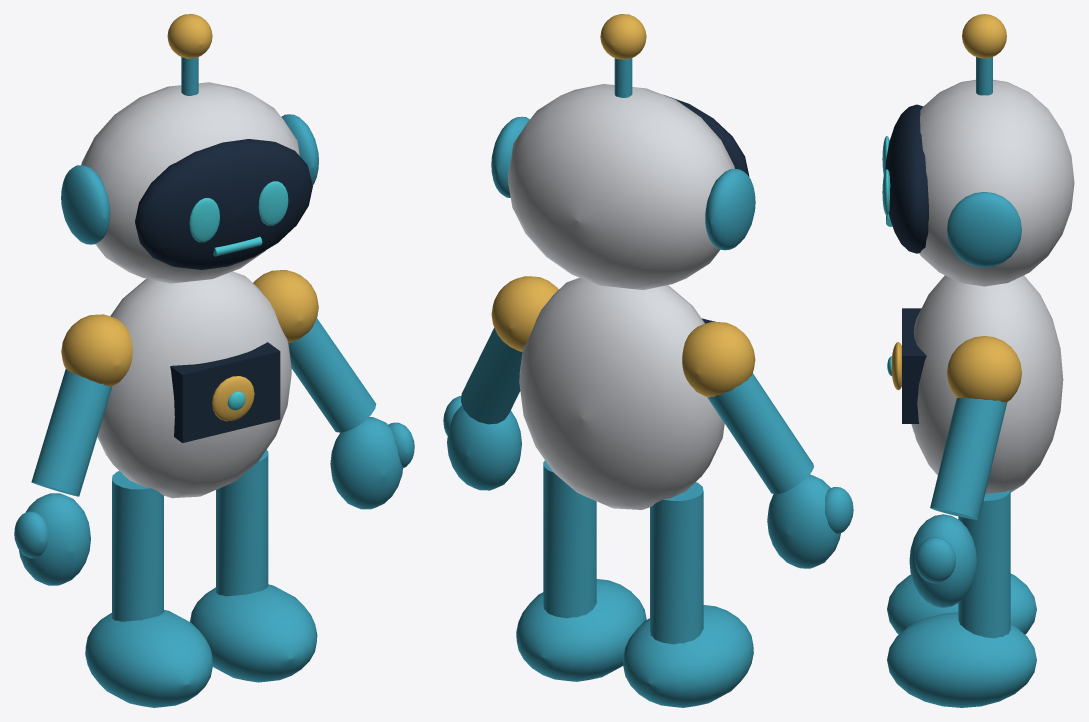
File: robot.glb
The picture shows the model from 3 angles, left to right: view 1: azimuth 30°, elevation 25°; view 2: azimuth 150°, elevation 25°; view 3: azimuth 270°, elevation 25°; orthographic projection. The views are drawn at different scales.
Parts seen in each view (by area): view 1: Body, Head, HandR, HandL; view 2: Body, Head, HandL, HandR; view 3: Body, Head, HandR.
Part boxes in pixels (x1,y1,x2,y2): Body: (31,270,376,707); Head: (61,14,318,283); HandR: (330,417,414,509); HandL: (14,493,90,585); Body: (461,276,813,707); Head: (491,14,755,289); HandL: (767,474,853,568); HandR: (443,396,521,490); Body: (887,275,1063,707); Head: (882,14,1074,286); HandR: (909,514,976,607).
Size of the model in its own units: 1.21 by 1.94 by 0.512.
